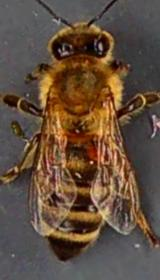varroa_mite: (80, 137, 108, 165)
